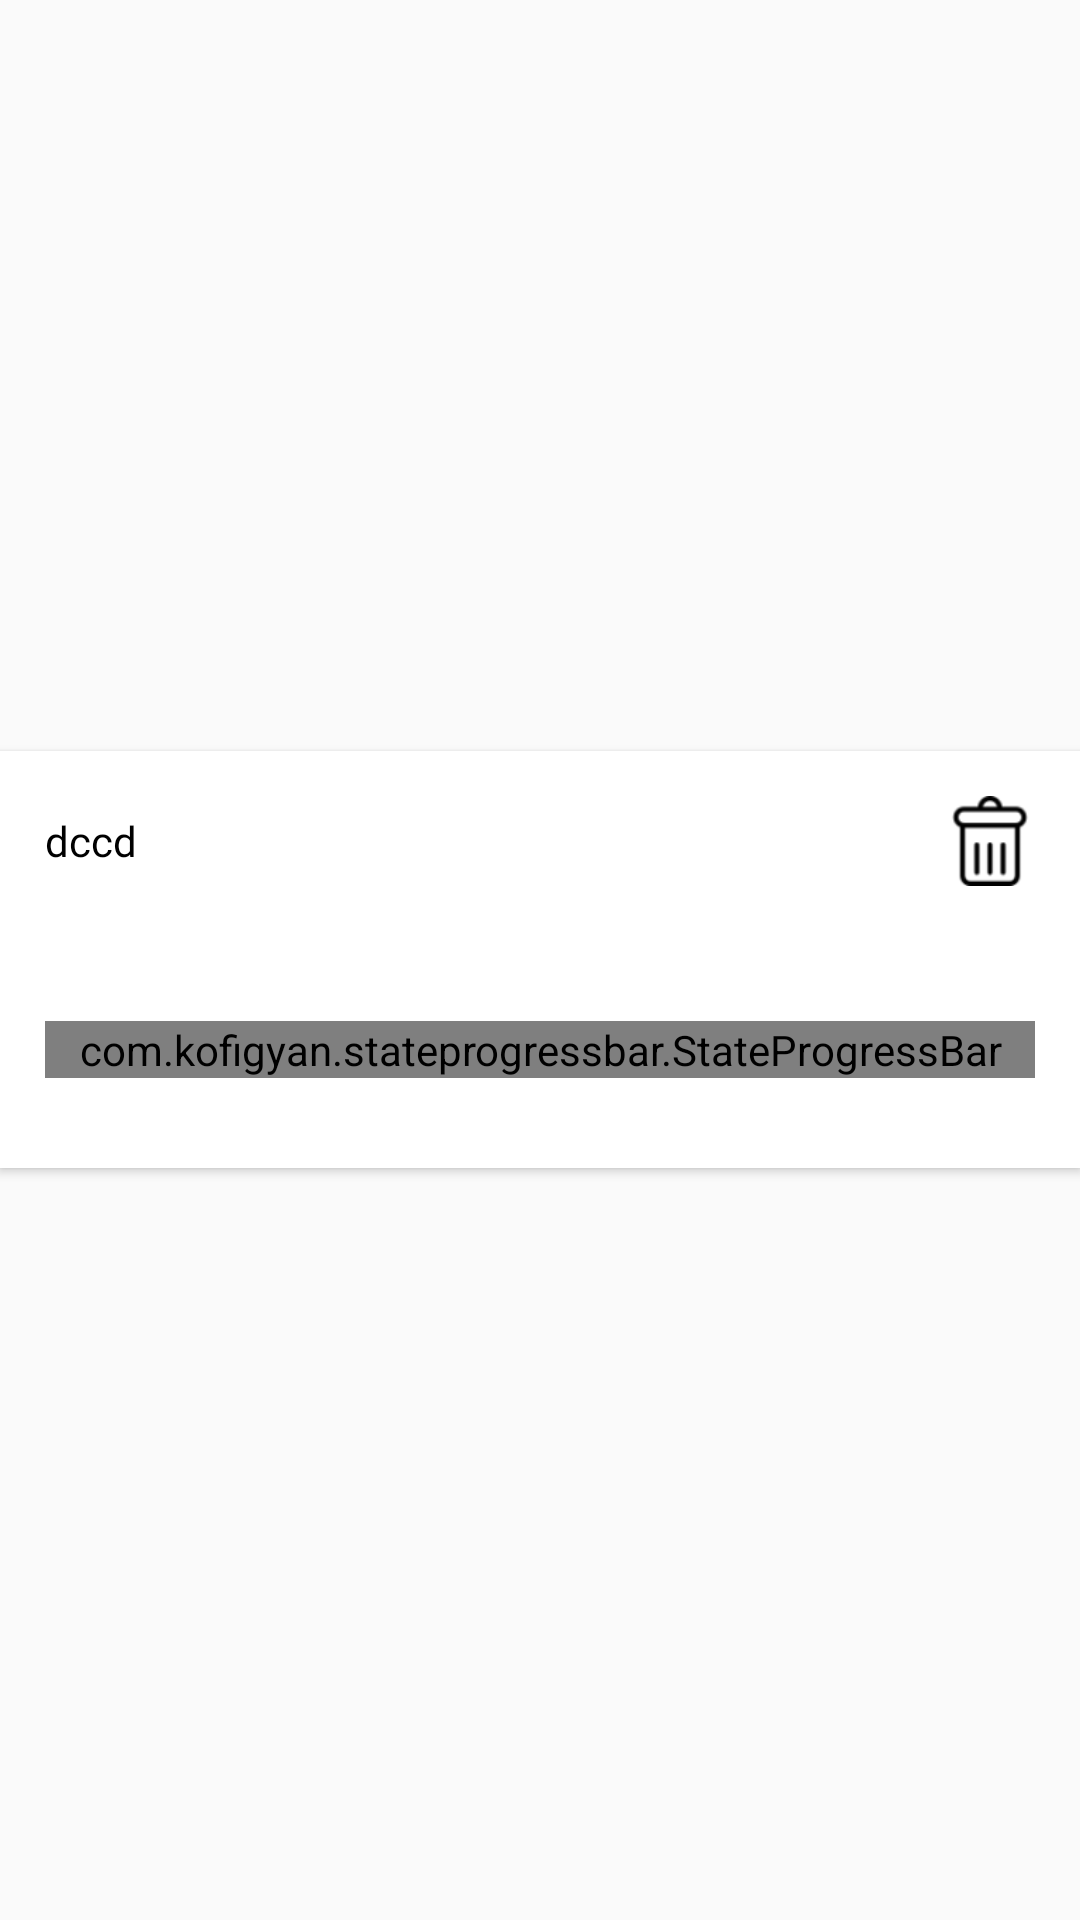

Locate icon controls on the screen. Image size 1080x1920, boxes as (x1, y1, x2, y2).
delete water: (952, 796, 1028, 886)
